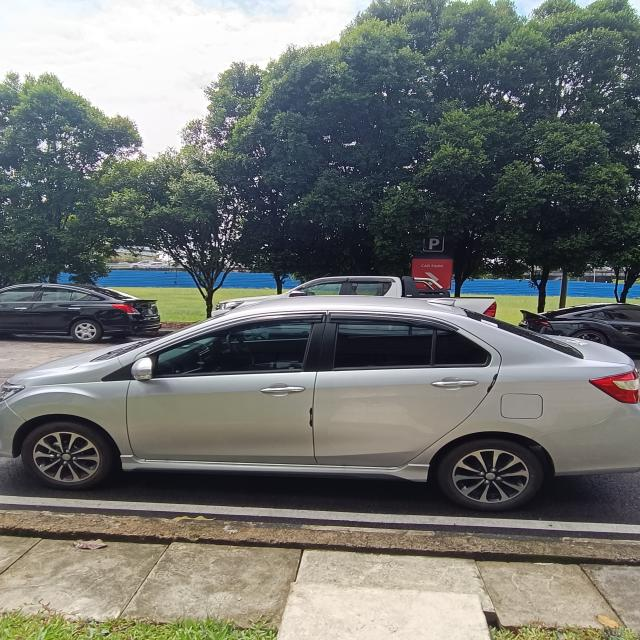PeroduaBezza: (1, 284, 639, 511)
